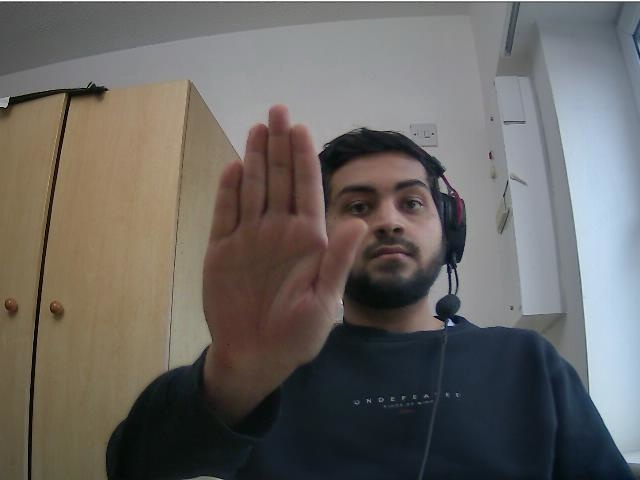up: (200, 103, 371, 363)
